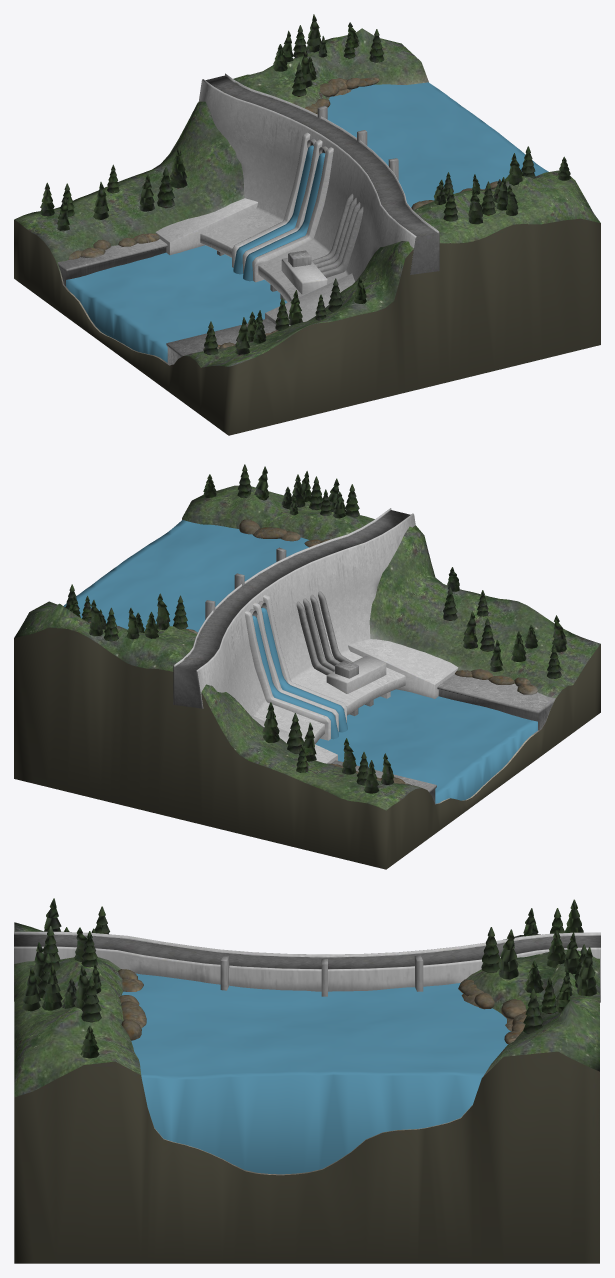
Rendered from Dam Hydroelectric power station Cut.fbx.
3 views of the same model, one above another, from view 1: azimuth 30°, elevation 25°; view 2: azimuth 150°, elevation 25°; view 3: azimuth 270°, elevation 25° (orthographic). The views are drawn at different scales.
Parts seen in each view (by area): view 1: desirefx_me_3, desirefx_me_1.001, desirefx_me_1, desirefx_me_2; view 2: desirefx_me_3, desirefx_me_1.001, desirefx_me_1, desirefx_me_2; view 3: desirefx_me_3, desirefx_me_1.
Part boxes in pixels (bbox=[...]): desirefx_me_3: bbox=[14, 14, 600, 435]; desirefx_me_1.001: bbox=[66, 245, 287, 362]; desirefx_me_1: bbox=[327, 82, 548, 207]; desirefx_me_2: bbox=[233, 145, 325, 281]; desirefx_me_3: bbox=[14, 464, 600, 869]; desirefx_me_1.001: bbox=[315, 689, 537, 803]; desirefx_me_1: bbox=[63, 520, 309, 632]; desirefx_me_2: bbox=[252, 607, 347, 739]; desirefx_me_3: bbox=[14, 898, 600, 1263]; desirefx_me_1: bbox=[121, 973, 511, 1174].
Size of the model in its own units: 999 by 499 by 1000.
Materials: 3 (3 with a texture image).
